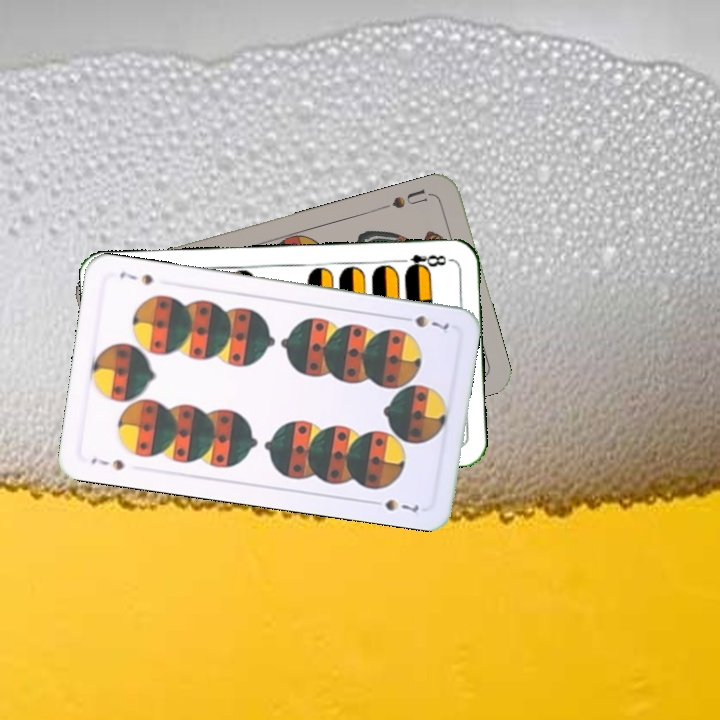E8: (394, 250, 453, 274)
S7: (396, 311, 452, 332), (87, 453, 126, 473)
SU: (377, 185, 435, 212)
